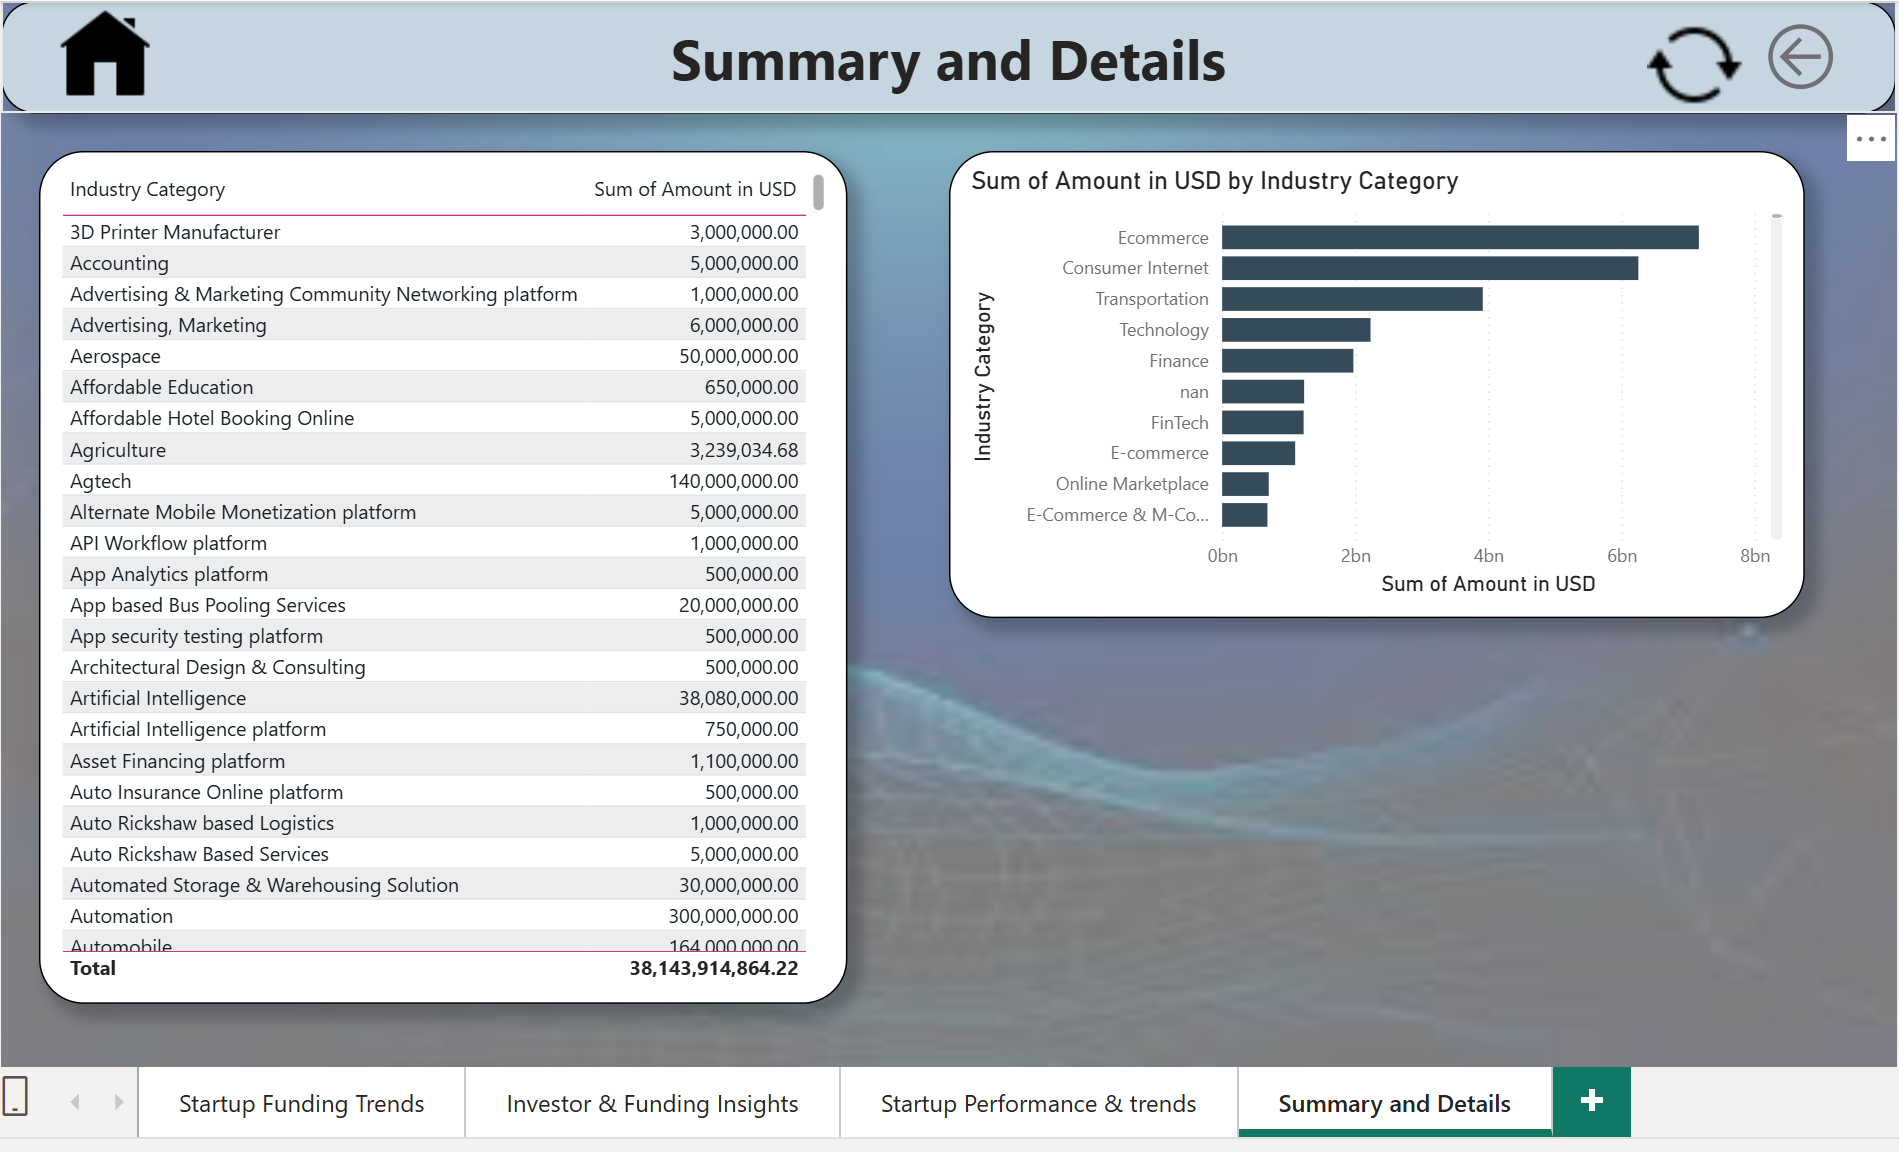

The dashboard page shown, as its layout file describes it:
{"tool":"powerbi","page":{"name":"Summary and Details","canvas":[1280,720],"ordinal":3},"visuals":[{"type":"textbox","box":[0,0,1280,75.8],"z":0},{"type":"image","box":[25.8,6.1,89.5,62.2],"z":1000},{"type":"actionButton","box":[1188,9.4,69.4,56.3],"z":2000},{"type":"image","box":[1111.1,0,63.8,86.3],"z":4000},{"type":"tableEx","fields":{"Values":["Final Cleaned(in).Industry Category","Sum(Final Cleaned(in).Amount in USD)"]},"box":[26.3,101.3,546.2,576.2],"z":5000},{"type":"barChart","fields":{"Category":["Final Cleaned(in).Industry Category"],"Y":["Sum(Final Cleaned(in).Amount in USD)"]},"box":[640,101.3,578.1,315.3],"z":6000}]}

Visuals, with their boxes on the page's 1280x720 design canvas (x1, y1, x2, y2). These are canvas units, not pixel positions in the 1899x1152 screenshot, which may show the page scaled, cropped or inside an application window:
textbox: bbox(0, 0, 1280, 76)
image: bbox(26, 6, 115, 68)
actionButton: bbox(1188, 9, 1257, 66)
image: bbox(1111, 0, 1175, 86)
tableEx - Final Cleaned(in).Industry Category x Sum(Final Cleaned(in).Amount in USD): bbox(26, 101, 572, 678)
barChart - Final Cleaned(in).Industry Category x Sum(Final Cleaned(in).Amount in USD): bbox(640, 101, 1218, 417)
